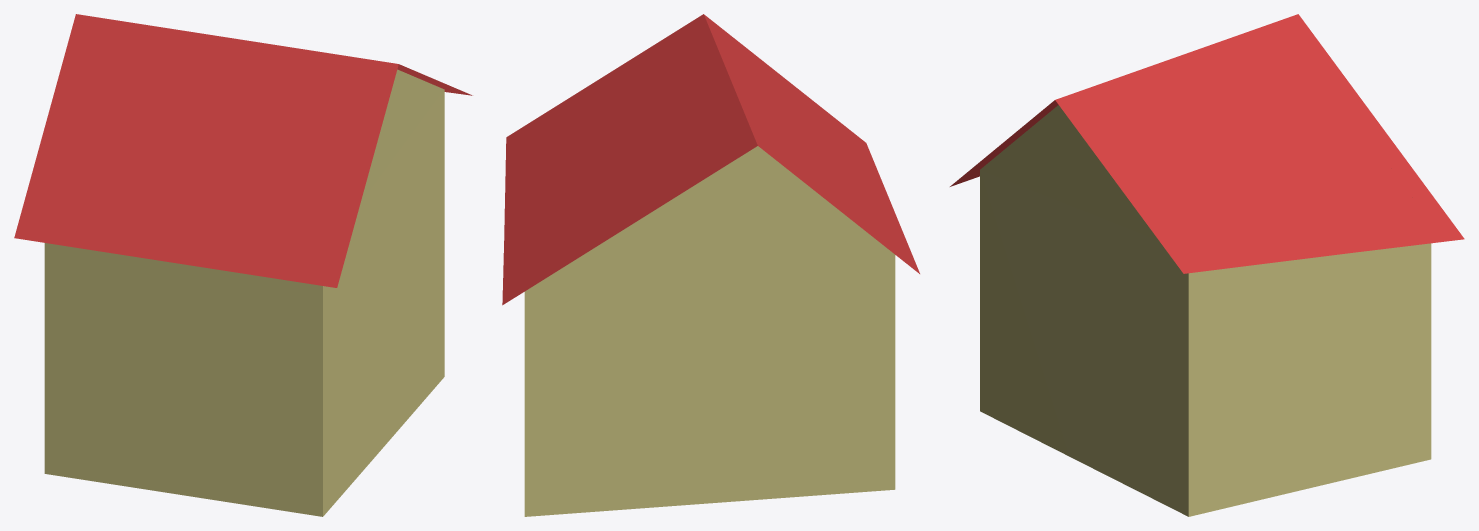
The picture shows the model from 3 angles, left to right: view 1: azimuth 30°, elevation 25°; view 2: azimuth 150°, elevation 25°; view 3: azimuth 270°, elevation 25°; orthographic projection. The views are drawn at different scales.
Bounding box in the file's own units: 16.59 × 17.67 × 13.76.
